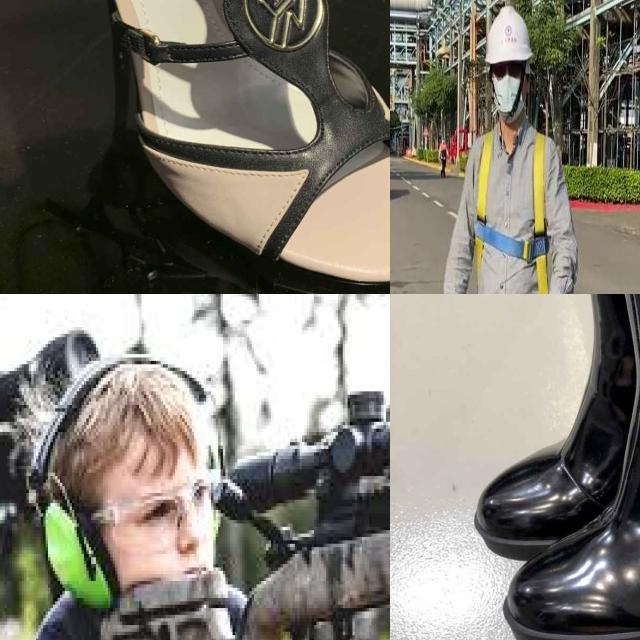Ear-protection: (30, 369, 127, 610)
Harness: (475, 131, 550, 294)
Sandals: (0, 0, 390, 294), (451, 294, 640, 640)
